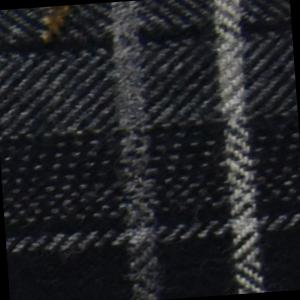Oil Stain: (38, 6, 78, 51)
